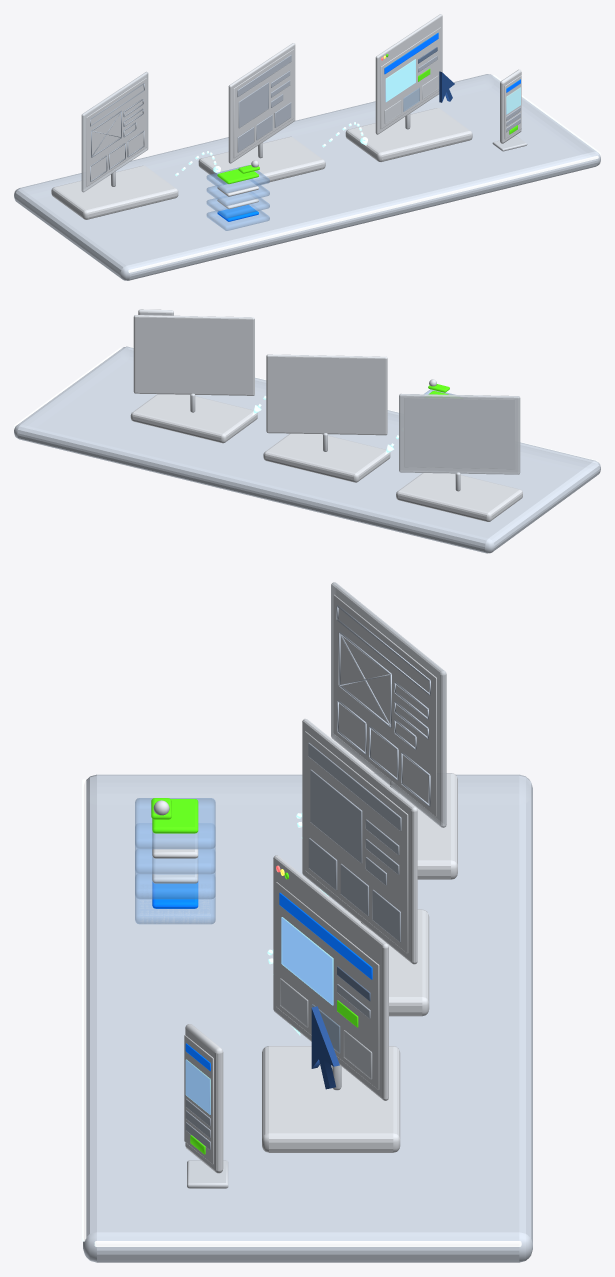
The model's file is product-ux-flow.glb.
3 views of the same model, one above another, from view 1: azimuth 30°, elevation 25°; view 2: azimuth 150°, elevation 25°; view 3: azimuth 270°, elevation 25° (orthographic). The views are drawn at different scales.
Visible parts, largest first — view 1: Base, Wireframe, Prototype, MidFidelity, ComponentLibrary, PhonePrototype; view 2: Base, MidFidelity, Wireframe, Prototype; view 3: Base, Prototype, MidFidelity, Wireframe, ComponentLibrary, PhonePrototype, Cursor.
Part boxes in pixels (x1=…): Base: x1=14, y1=74, x2=600, y2=280; Wireframe: x1=51, y1=71, x2=178, y2=219; Prototype: x1=345, y1=14, x2=472, y2=161; MidFidelity: x1=198, y1=43, x2=325, y2=184; ComponentLibrary: x1=206, y1=160, x2=269, y2=230; PhonePrototype: x1=492, y1=69, x2=527, y2=151; Base: x1=14, y1=346, x2=600, y2=553; MidFidelity: x1=263, y1=354, x2=390, y2=482; Wireframe: x1=396, y1=393, x2=522, y2=521; Prototype: x1=130, y1=315, x2=257, y2=443; Base: x1=82, y1=774, x2=532, y2=1262; Prototype: x1=262, y1=855, x2=400, y2=1152; MidFidelity: x1=302, y1=719, x2=429, y2=1016; Wireframe: x1=331, y1=582, x2=457, y2=879; ComponentLibrary: x1=135, y1=798, x2=215, y2=924; PhonePrototype: x1=184, y1=1024, x2=228, y2=1188; Cursor: x1=311, y1=1006, x2=339, y2=1089.
Size of the model in its own units: 9.61 by 2.28 by 3.91.
